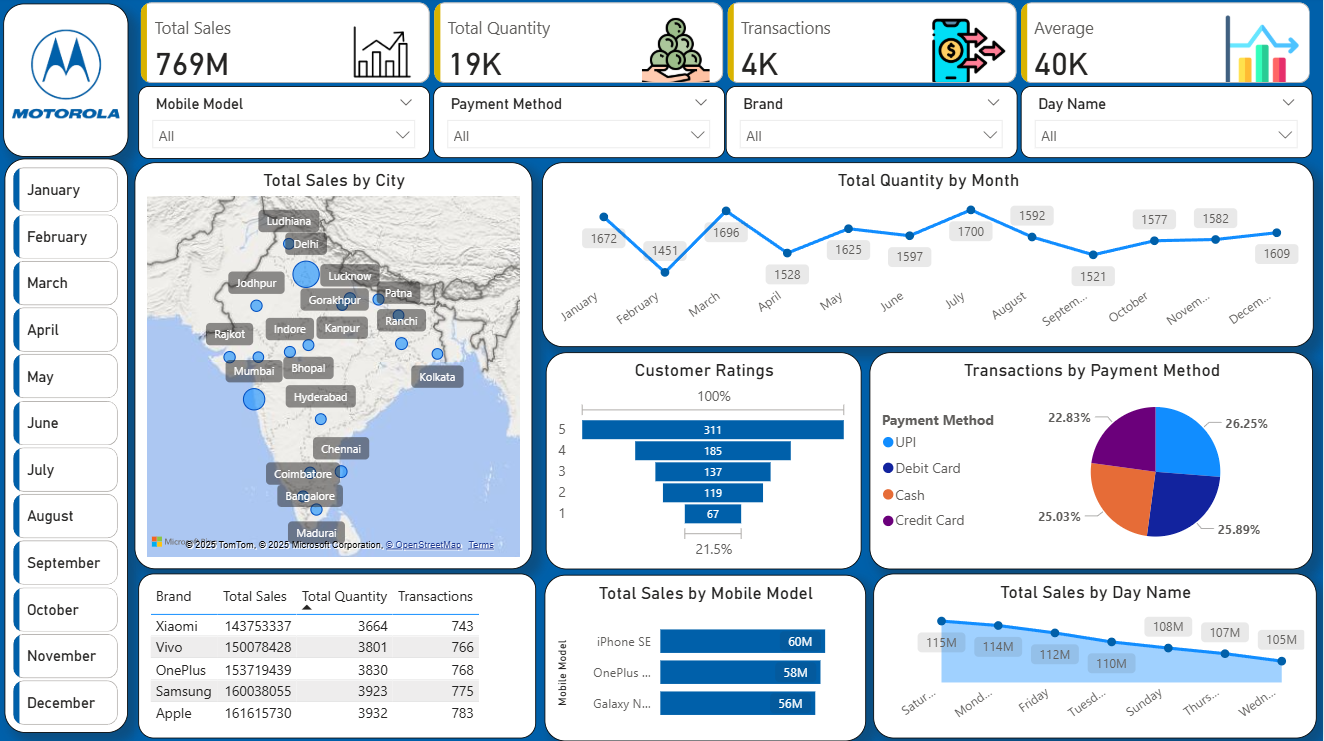

What the dashboard file says about the page in this screenshot:
{"tool":"powerbi","page":{"name":"Page 1","canvas":[1280,720],"ordinal":0},"visuals":[{"type":"shape","box":[5.5,6.9,120.8,148.2],"z":0},{"type":"image","box":[9.6,16.5,113.9,116.6],"z":1000},{"type":"shape","box":[6.9,156.4,119.4,554.4],"z":2000},{"type":"advancedSlicerVisual","fields":{"Values":["Sales_Data.Date.Variation.Date Hierarchy.Month"]},"box":[11,160.5,111.1,548.9],"z":3000},{"type":"cardVisual","fields":{"Data":["Sales_Data.Total Sales","Sales_Data.Total Quantity","Sales_Data.Transactions","Sales_Data.Average"]},"box":[134,5.6,1140.1,83.7],"z":4000},{"type":"map","fields":{"Category":["Sales_Data.City"],"Size":["Sales_Data.Total Sales"]},"box":[132.9,160.8,384.1,393.1],"z":5000},{"type":"lineChart","fields":{"Y":["Sales_Data.Total Quantity"],"Category":["Sales_Data.Date.Variation.Date Hierarchy.Month","Sales_Data.Date.Variation.Date Hierarchy.Day"]},"box":[525.9,160.8,744.8,178.7],"z":6000},{"type":"clusteredBarChart","fields":{"Category":["Sales_Data.Mobile Model"],"Y":["Sales_Data.Total Sales"]},"box":[528.3,558.5,310.1,160.5],"z":7000},{"type":"pieChart","fields":{"Category":["Sales_Data.Payment Method"],"Y":["Sales_Data.Transactions"]},"box":[842.5,344.4,428.1,209.9],"z":8000},{"type":"funnel","title":"Customer Ratings","fields":{"Category":["Sales_Data.Customer Ratings"],"Y":["Sum(Sales_Data.Customer Ratings)"]},"box":[529.7,344.4,304.6,209.9],"z":9000},{"type":"areaChart","fields":{"Category":["Sales_Data.Day Name"],"Y":["Sales_Data.Total Sales"]},"box":[845.3,557.1,428.1,159.2],"z":10000},{"type":"tableEx","fields":{"Values":["Sales_Data.Brand","Sales_Data.Total Sales","Sales_Data.Total Quantity","Sales_Data.Transactions"]},"box":[135.8,557.1,384.2,159.2],"z":11000},{"type":"slicer","fields":{"Values":["Sales_Data.Mobile Model"]},"box":[136.2,87.1,281.4,70.3],"z":12000},{"type":"slicer","fields":{"Values":["Sales_Data.Payment Method"]},"box":[421,87.1,281.4,69.2],"z":13000},{"type":"slicer","fields":{"Values":["Sales_Data.Brand"]},"box":[703.5,87.1,281.4,69.2],"z":14000},{"type":"slicer","fields":{"Values":["Sales_Data.Day Name"]},"box":[988.2,87.1,281.4,69.2],"z":15000}]}

Visuals, with their boxes in screenshot pixels (x1, y1, x2, y2), scaled from the page's 1280x720 canvas onto the 1324x741 screenshot:
shape: 6, 7, 131, 160
image: 10, 17, 128, 137
shape: 7, 161, 131, 732
advancedSlicerVisual - Sales_Data.Date.Variation.Date Hierarchy.Month: 11, 165, 126, 730
cardVisual - Sales_Data.Total Sales x Sales_Data.Total Quantity: 139, 6, 1318, 92
map - Sales_Data.City x Sales_Data.Total Sales: 137, 165, 535, 570
lineChart - Sales_Data.Total Quantity x Sales_Data.Date.Variation.Date Hierarchy.Month: 544, 165, 1314, 349
clusteredBarChart - Sales_Data.Mobile Model x Sales_Data.Total Sales: 546, 575, 867, 740
pieChart - Sales_Data.Payment Method x Sales_Data.Transactions: 871, 354, 1314, 570
"Customer Ratings" funnel: 548, 354, 863, 570
areaChart - Sales_Data.Day Name x Sales_Data.Total Sales: 874, 573, 1317, 737
tableEx - Sales_Data.Brand x Sales_Data.Total Sales: 140, 573, 538, 737
slicer - Sales_Data.Mobile Model: 141, 90, 432, 162
slicer - Sales_Data.Payment Method: 435, 90, 727, 161
slicer - Sales_Data.Brand: 728, 90, 1019, 161
slicer - Sales_Data.Day Name: 1022, 90, 1313, 161
